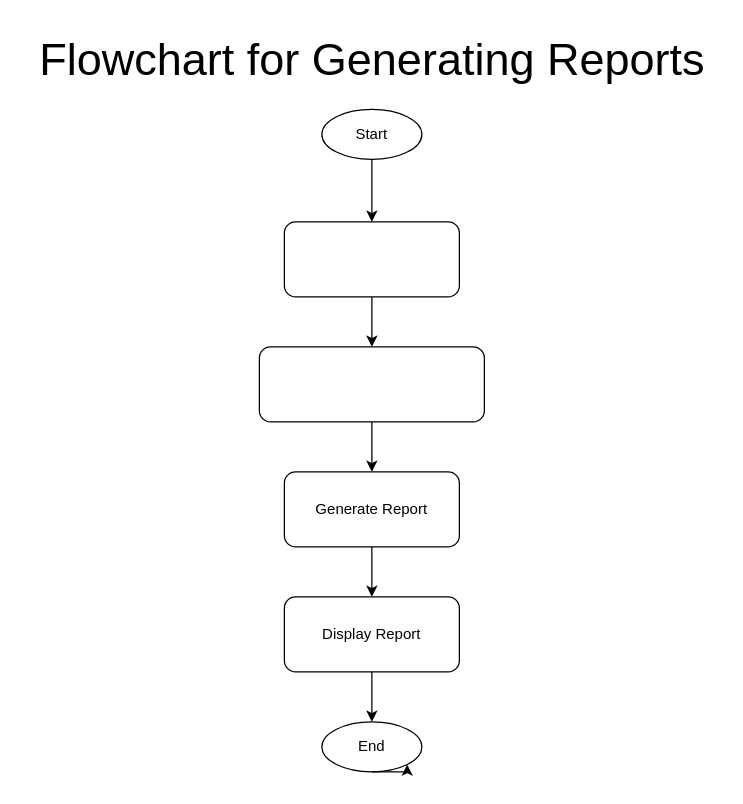
Some shapes in this 743 by 804 pixel diagram are drawn without their labels. Here are the shapes that lost their labels. From the top down, the box of each, then its label:
(283, 221, 459, 297): Select Report Type
(258, 346, 484, 422): Enter Criteria for Report
